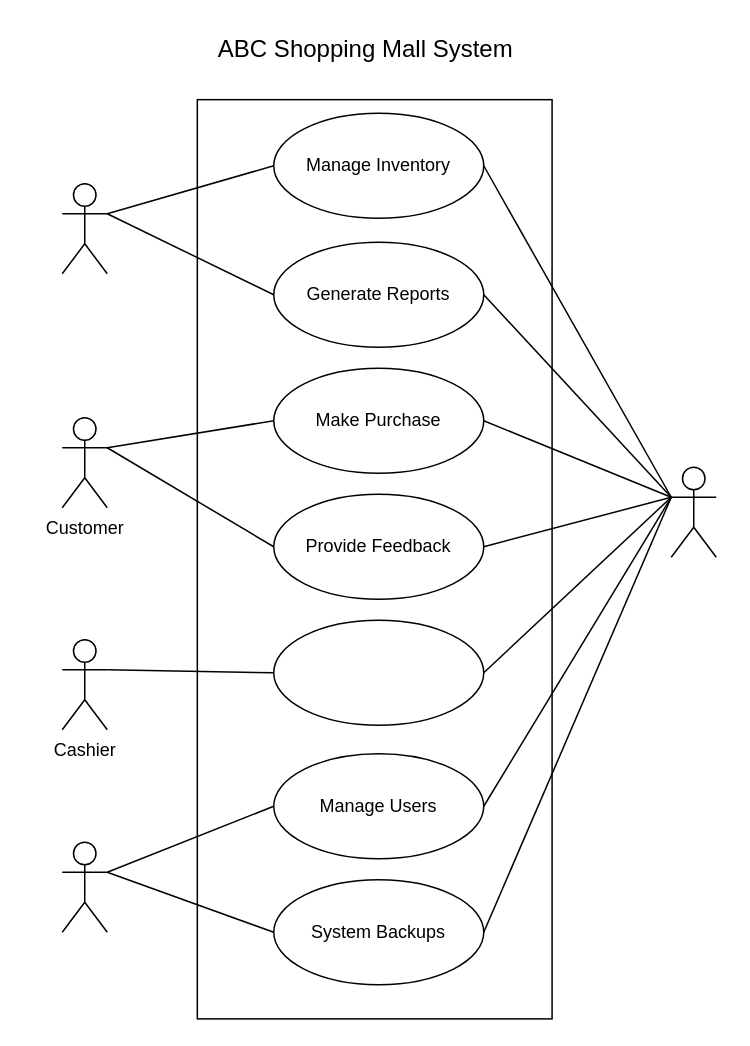
Some shapes in this 750 by 1046 pixel diagram are drawn without their labels. The centre of each missing label's shape, as x and y in pixels:
"Process Sales" goes at pixel 378 672.
"Store Manager" goes at pixel 84 228.
"System" goes at pixel 693 511.
"System Admin" goes at pixel 84 886.
